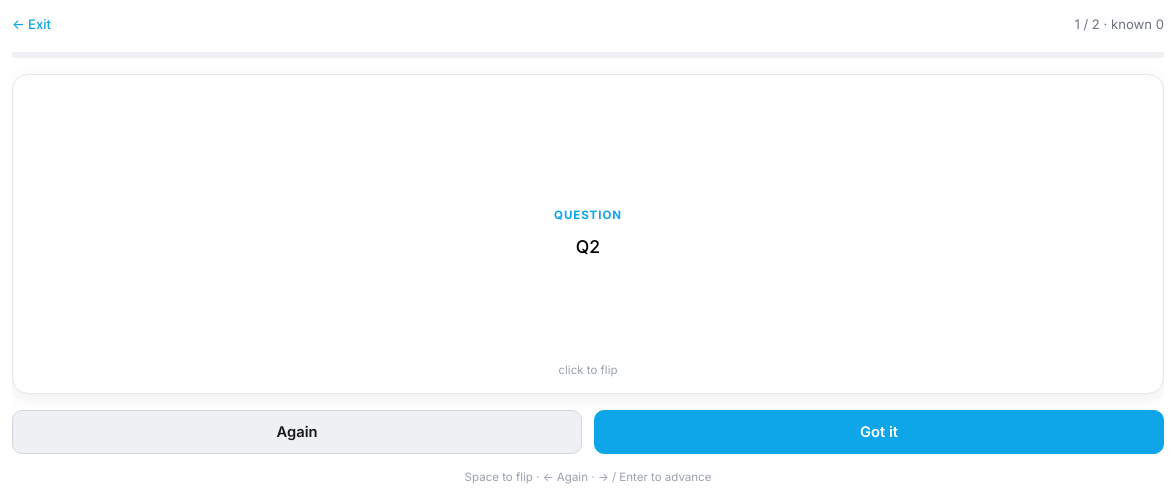
StudyMode › counts only known cards toward the score
Click the button "Again".
click(297, 432)  # box [12,410,582,454]
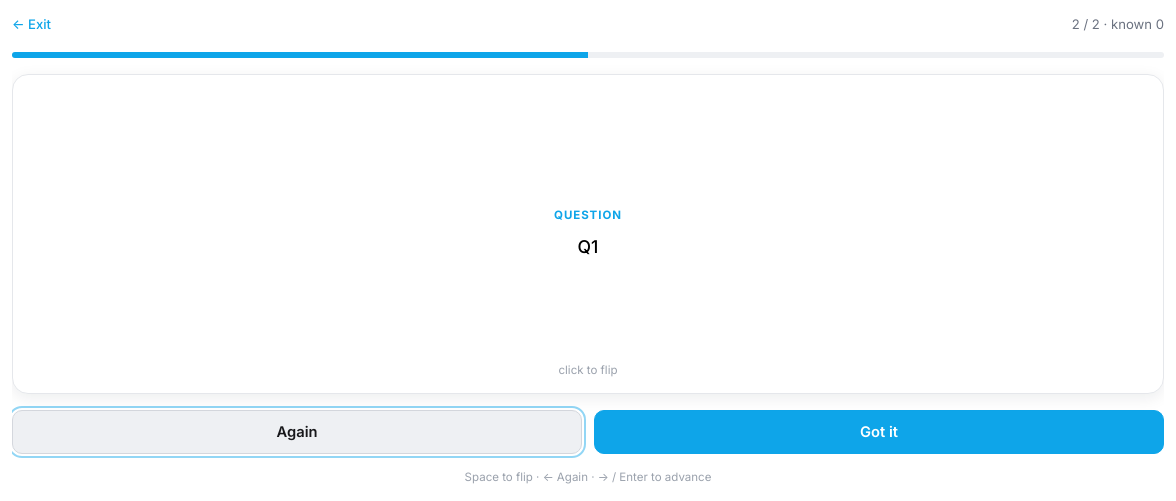
Click the button "Got it".
click(879, 432)  # box [594,410,1164,454]
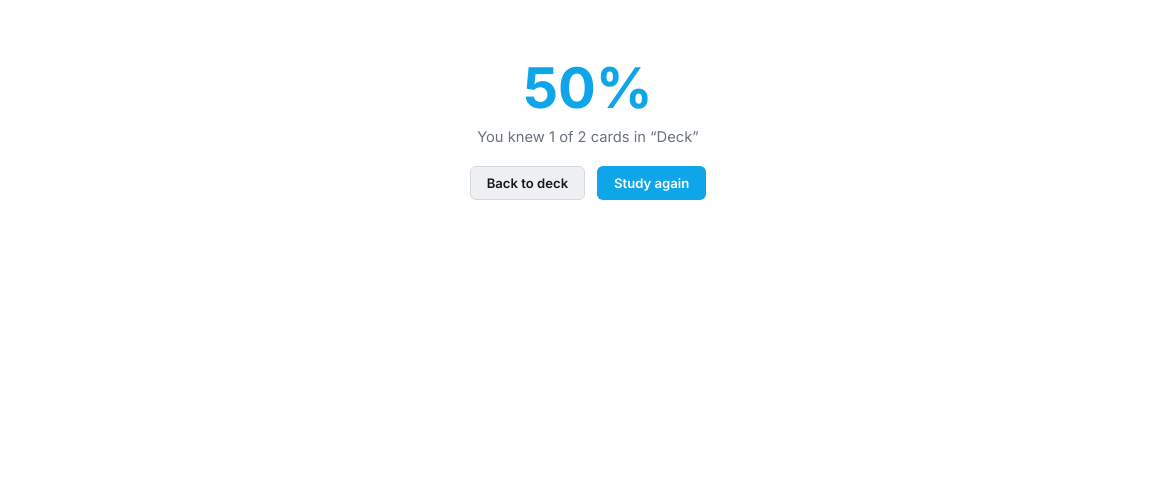
Now the text "50%" is shown, box [523,60,653,116]
